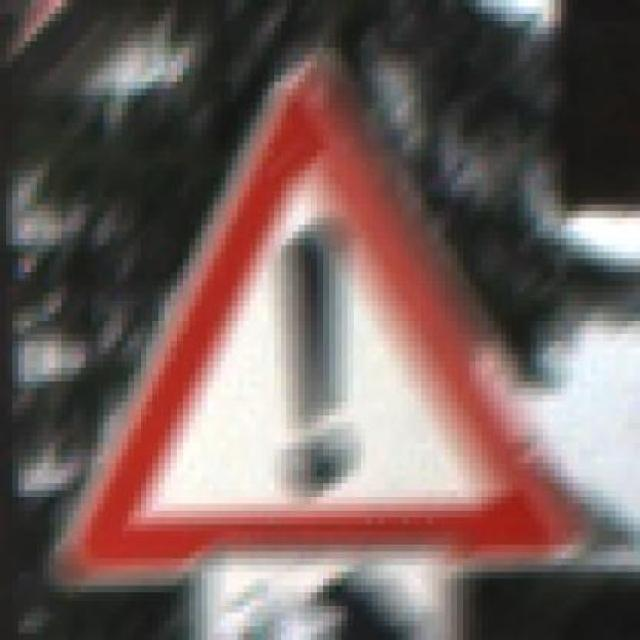Attention Please-: (55, 41, 567, 599)
